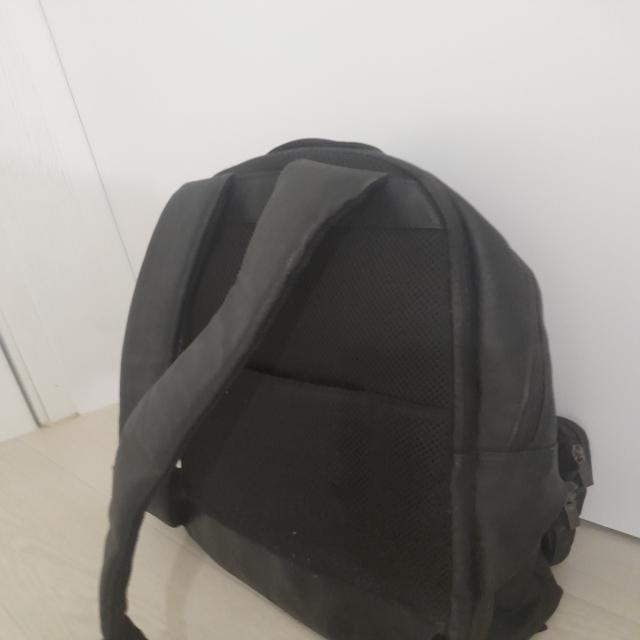backpack: (98, 139, 590, 640)
